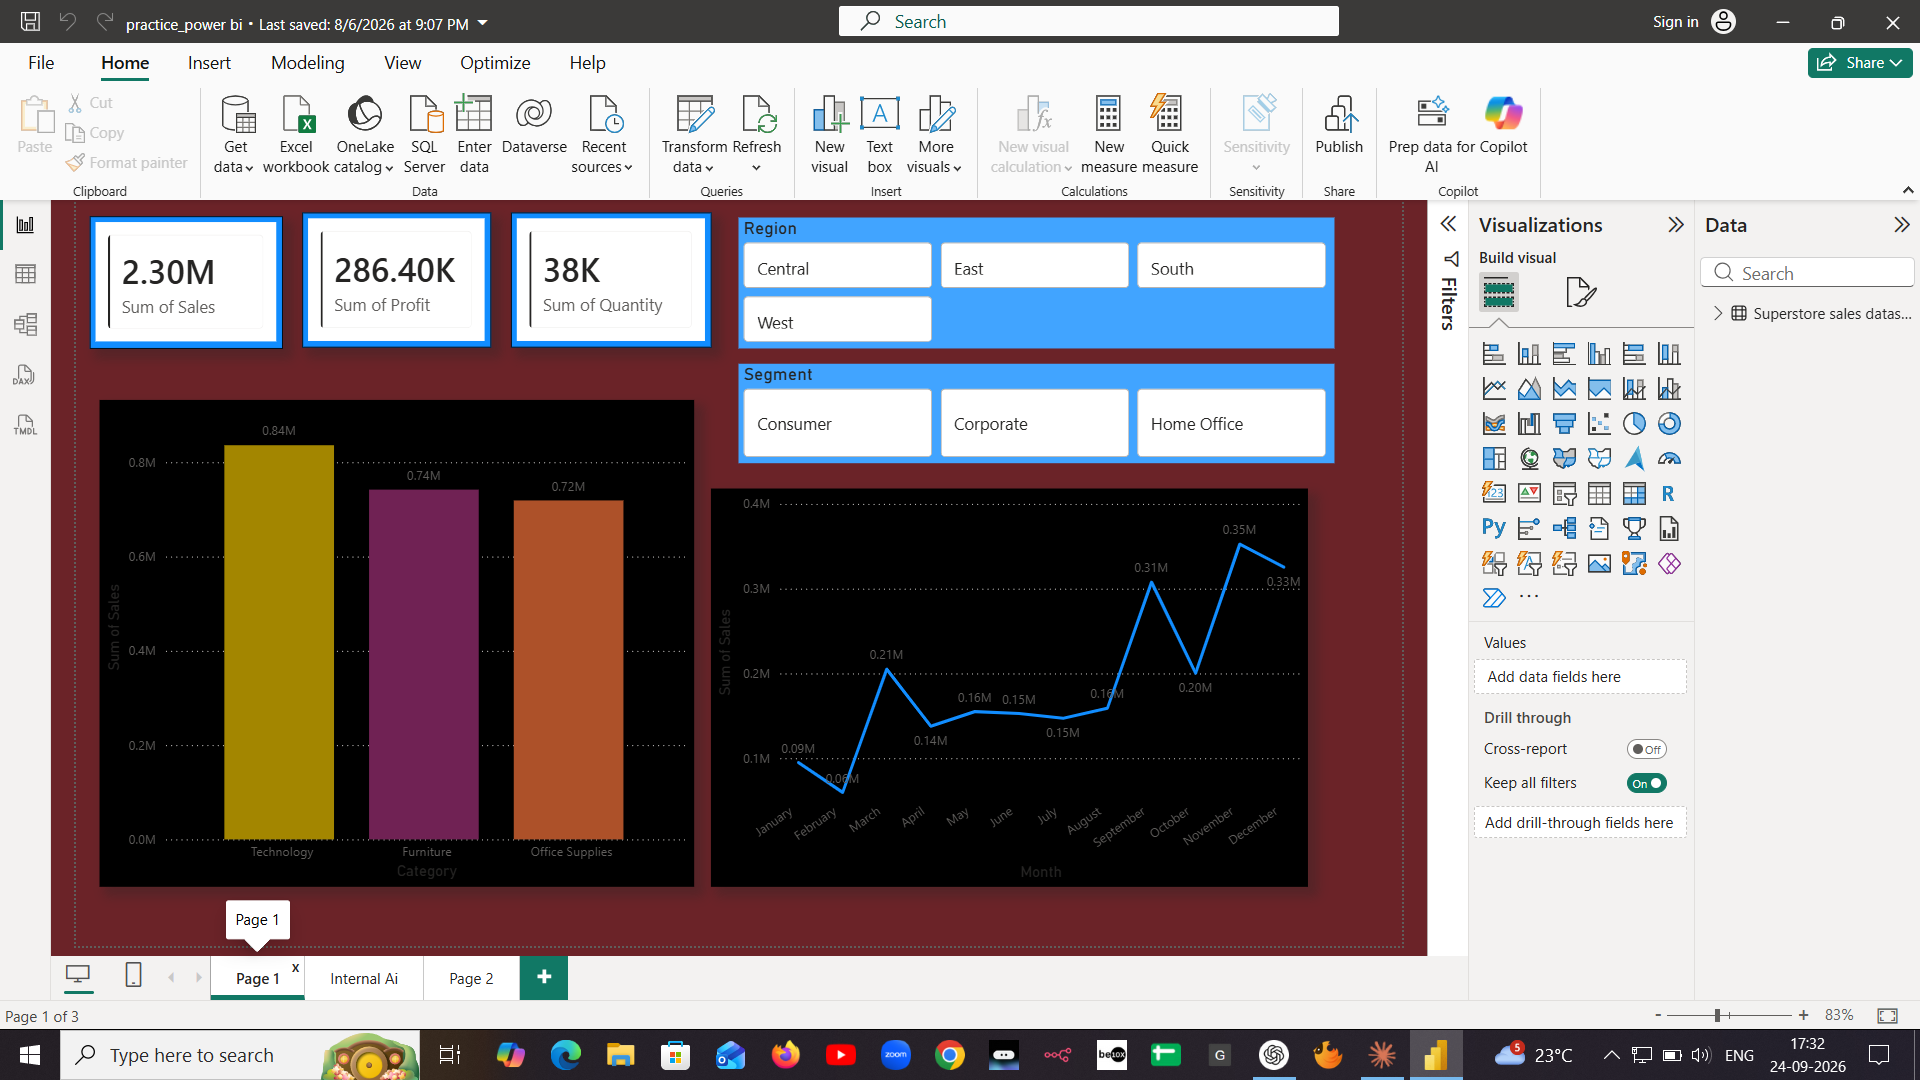

The dashboard page shown, as its layout file describes it:
{"tool":"powerbi","page":{"name":"Page 1","canvas":[1280,720],"ordinal":0},"visuals":[{"type":"cardVisual","fields":{"Data":["Sum(Superstore sales dataset.Sales)"]},"box":[13.7,15.1,186.6,127.6],"z":0},{"type":"cardVisual","fields":{"Data":["Sum(Superstore sales dataset.Profit)"]},"box":[218.2,12.3,182.5,130.4],"z":1000},{"type":"cardVisual","fields":{"Data":["Sum(Superstore sales dataset.Quantity)"]},"box":[419.9,12.3,193.5,130.4],"z":2000},{"type":"clusteredColumnChart","fields":{"Category":["Superstore sales dataset.Category"],"Y":["Sum(Superstore sales dataset.Sales)"]},"box":[23.3,193.5,573.6,469.3],"z":3000},{"type":"lineChart","fields":{"Category":["Superstore sales dataset.Order Date.Variation.Date Hierarchy.Month","Superstore sales dataset.Order Date Hierarchy.Order Date"],"Y":["Sum(Superstore sales dataset.Sales)"]},"box":[613.4,278.6,576.3,384.2],"z":4000},{"type":"advancedSlicerVisual","fields":{"Values":["Superstore sales dataset.Region"]},"box":[639.5,16.5,575,126.2],"z":5000},{"type":"advancedSlicerVisual","fields":{"Values":["Superstore sales dataset.Segment"]},"box":[639.5,157.8,575,96.1],"z":6000}]}

Visuals, with their boxes on the page's 1280x720 design canvas (x1, y1, x2, y2). These are canvas units, not pixel positions in the 1920x1080 screenshot, which may show the page scaled, cropped or inside an application window:
cardVisual - Sum(Superstore sales dataset.Sales): <region>14, 15, 200, 143</region>
cardVisual - Sum(Superstore sales dataset.Profit): <region>218, 12, 401, 143</region>
cardVisual - Sum(Superstore sales dataset.Quantity): <region>420, 12, 613, 143</region>
clusteredColumnChart - Superstore sales dataset.Category x Sum(Superstore sales dataset.Sales): <region>23, 194, 597, 663</region>
lineChart - Superstore sales dataset.Order Date.Variation.Date Hierarchy.Month x Superstore sales dataset.Order Date Hierarchy.Order Date: <region>613, 279, 1190, 663</region>
advancedSlicerVisual - Superstore sales dataset.Region: <region>640, 16, 1214, 143</region>
advancedSlicerVisual - Superstore sales dataset.Segment: <region>640, 158, 1214, 254</region>
